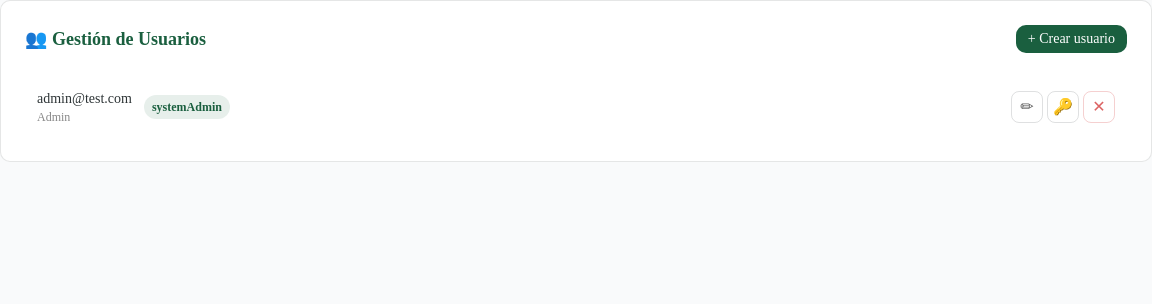
Test case: UsuariosCard — cambiar contraseña (C-93) › C-93: systemAdmin cambia la contraseña: POST a /api/admin/users/{id}/password con la nueva, y aviso de éxito
Click the button named "Cambiar contraseña de admin@test.com": (1063, 107) top-left (1047, 91), bottom-right (1079, 123)
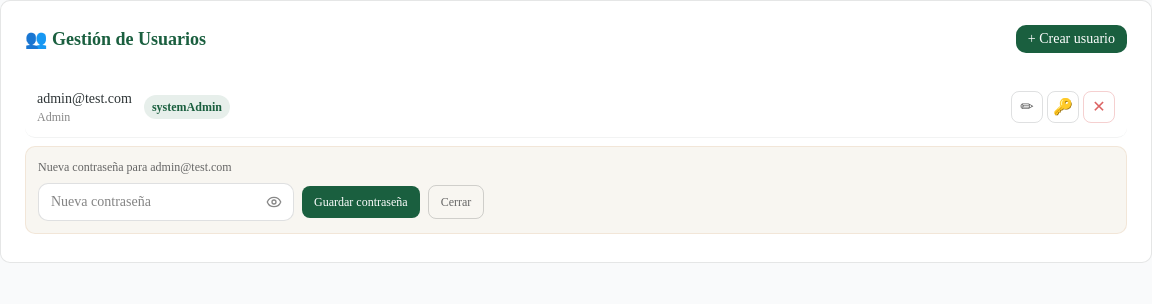
In the password field with placeholder "Nueva contraseña": (166, 202) top-left (38, 183), bottom-right (294, 221), type "NuevaClave2026!"
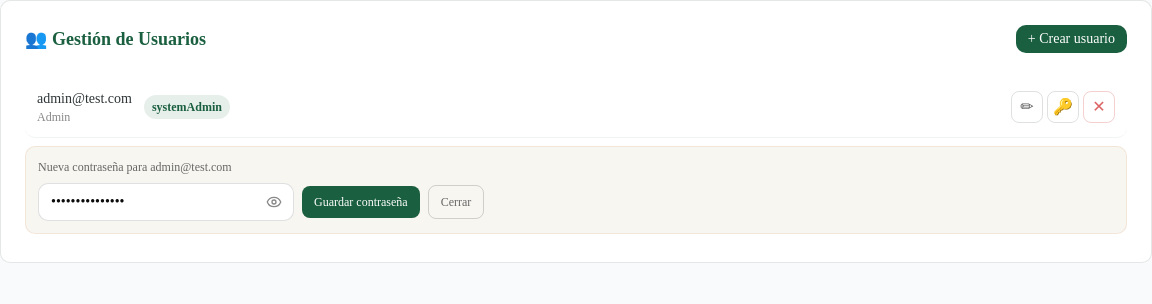
Click the button named "Mostrar contraseña": (274, 202) top-left (254, 183), bottom-right (294, 221)
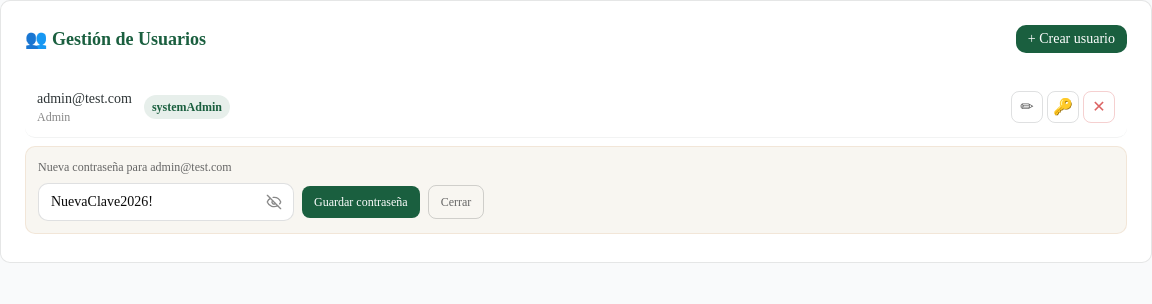
Check: the field with placeholder "Nueva contraseña" shows its text, box top-left (38, 183), bottom-right (294, 221)
Click the button "Guardar contraseña": (361, 202) top-left (302, 186), bottom-right (420, 218)
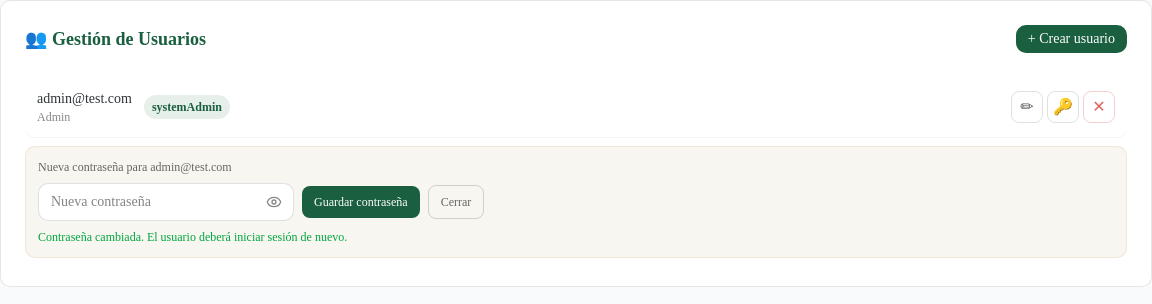
Check: the message shows "Contraseña cambiada", box top-left (38, 230), bottom-right (347, 244)
Check: the password field with placeholder "Nueva contraseña" is empty, box top-left (38, 183), bottom-right (294, 221)
